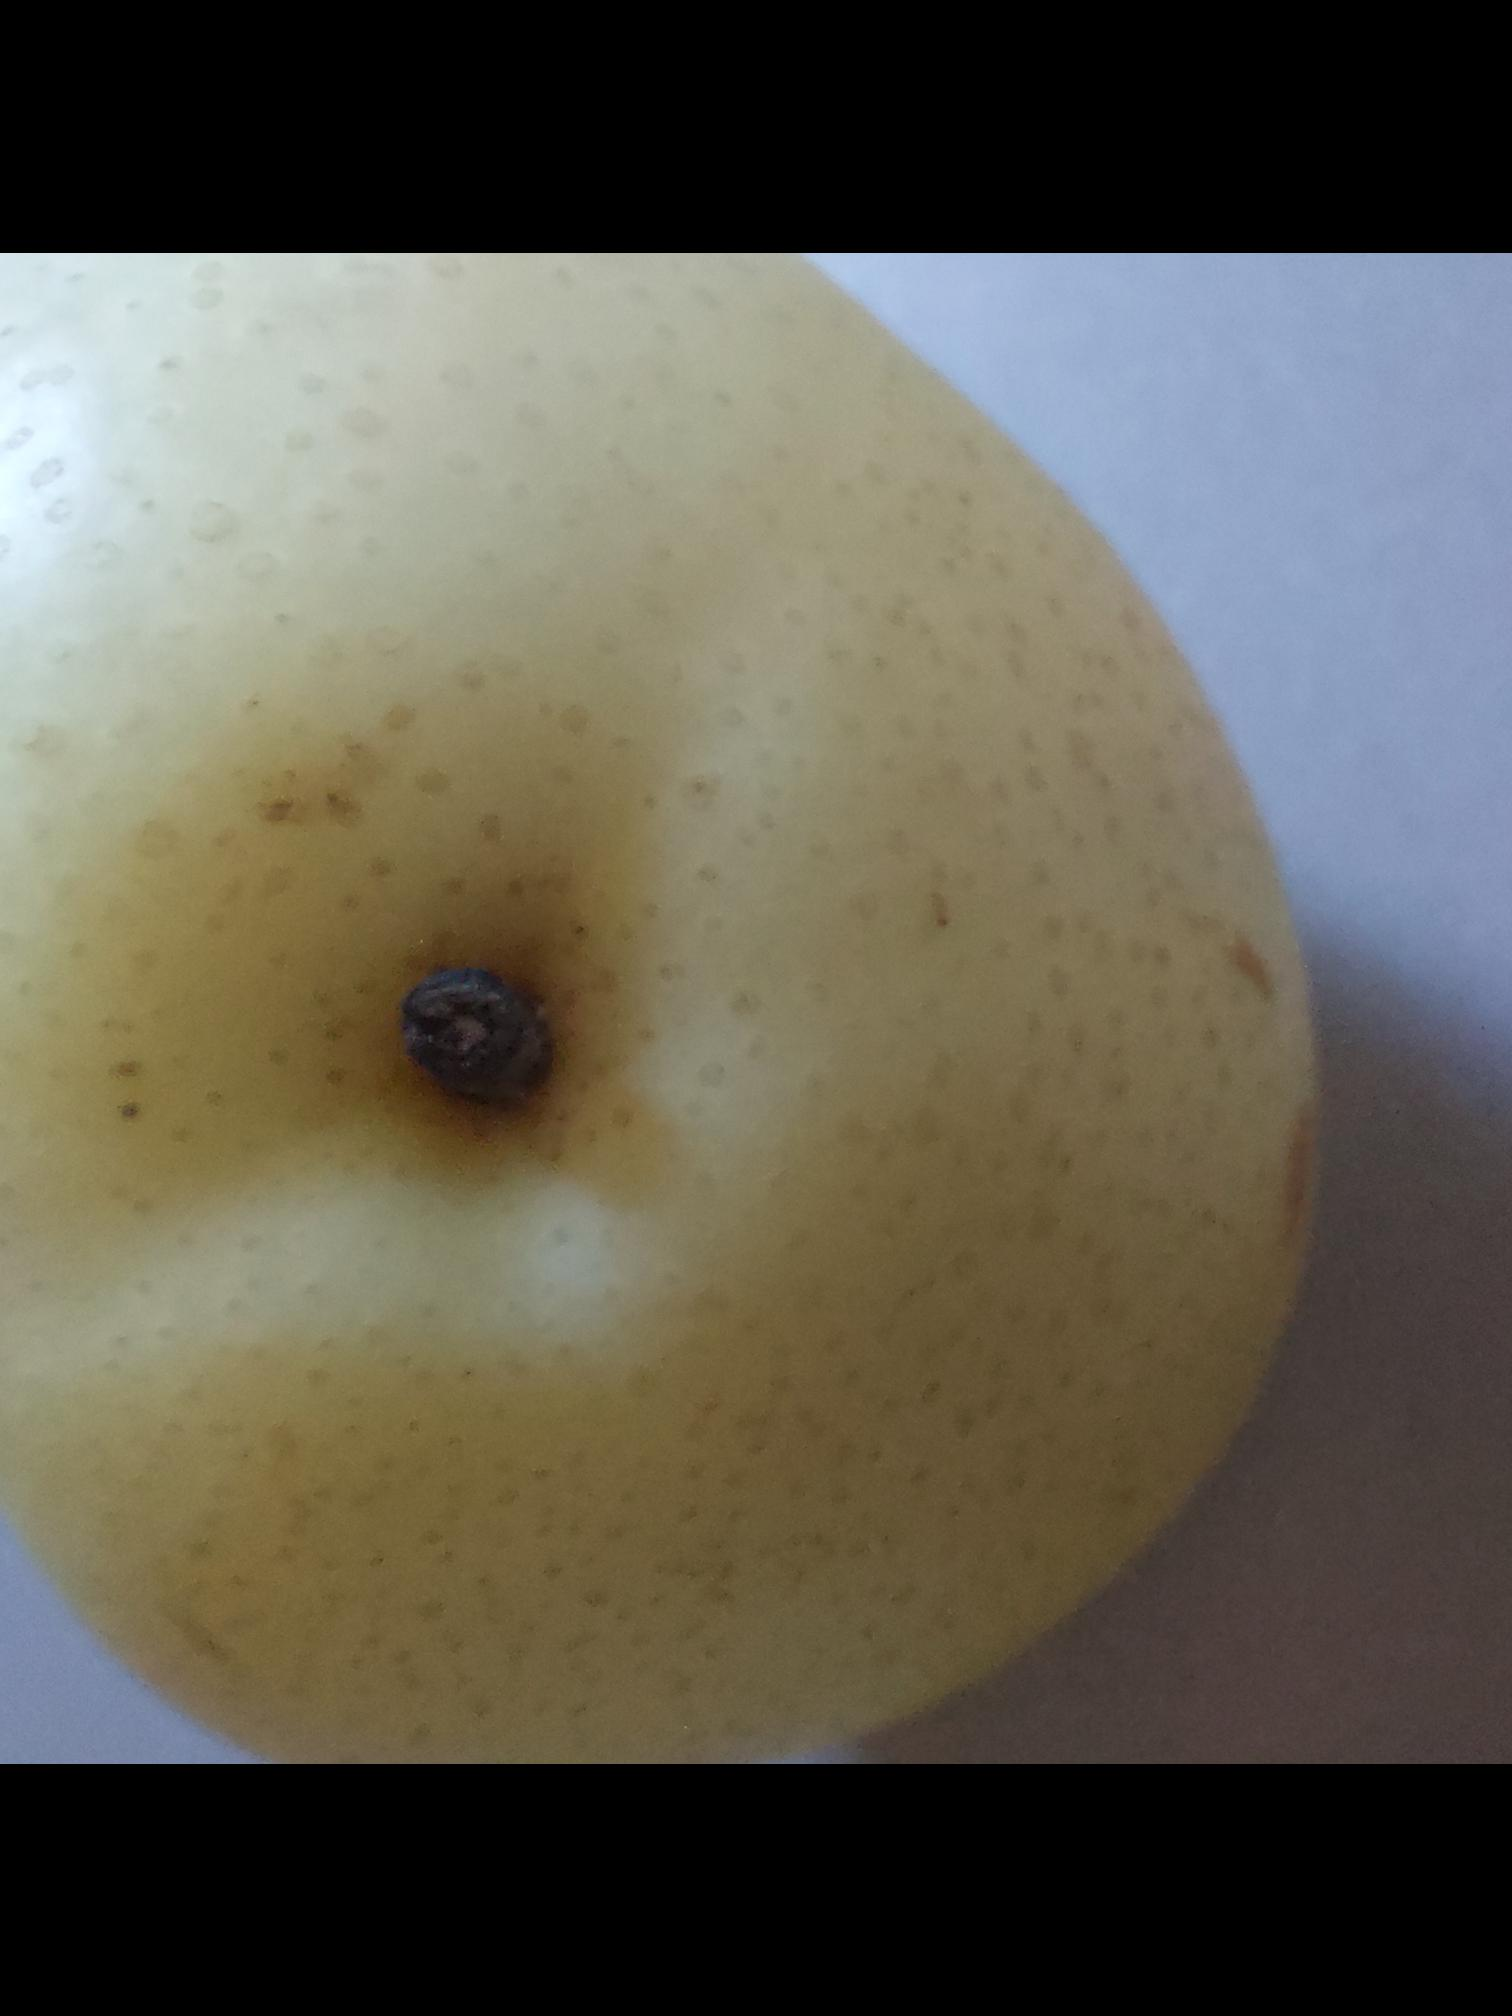Good Pear: (0, 252, 1328, 1764)
